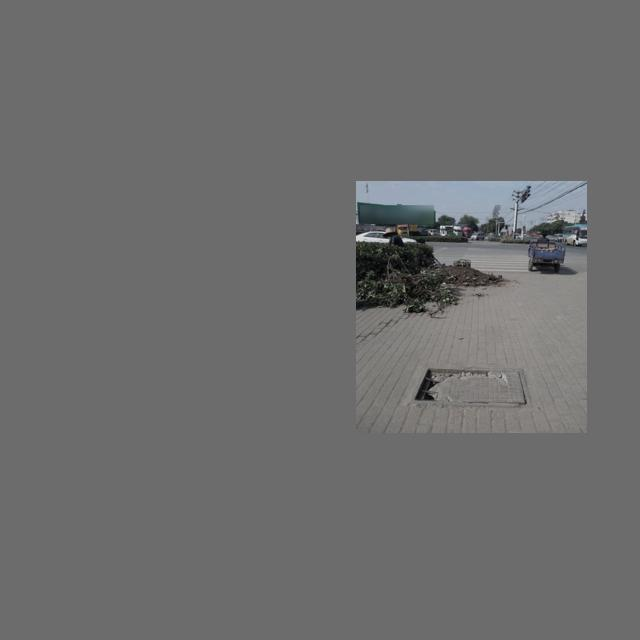broke: (409, 365, 532, 408)
